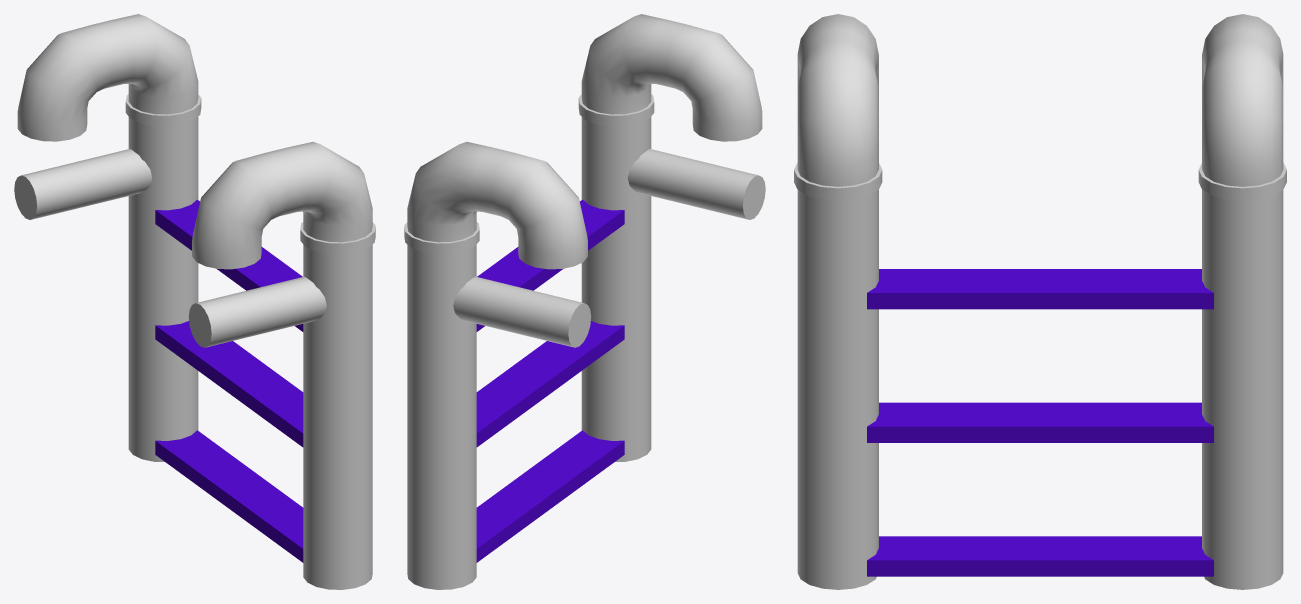
The model's file is Ladder.glb.
3 views of the same model, side by side, from view 1: azimuth 30°, elevation 25°; view 2: azimuth 150°, elevation 25°; view 3: azimuth 270°, elevation 25° (orthographic). The views are drawn at different scales.
Parts seen in each view (by area): view 1: Cylinder.009, Cylinder.010, Cube.011, Cylinder.011; view 2: Cylinder.009, Cylinder.010, Cube.011, Cylinder.011; view 3: Cylinder.009, Cube.011, Cylinder.010.
Part boxes in pixels (left/top/right/bottom): Cylinder.009: left=128, top=117, right=372, bottom=589; Cylinder.010: left=17, top=14, right=375, bottom=269; Cube.011: left=155, top=199, right=303, bottom=562; Cylinder.011: left=14, top=149, right=326, bottom=347; Cylinder.009: left=407, top=117, right=651, bottom=589; Cylinder.010: left=404, top=14, right=762, bottom=269; Cube.011: left=476, top=199, right=624, bottom=562; Cylinder.011: left=453, top=149, right=765, bottom=347; Cylinder.009: left=797, top=189, right=1283, bottom=589; Cube.011: left=867, top=269, right=1213, bottom=576; Cylinder.010: left=794, top=14, right=1286, bottom=200.
Bounding box in the file's own units: 0.542 × 1.3 × 1.14.
